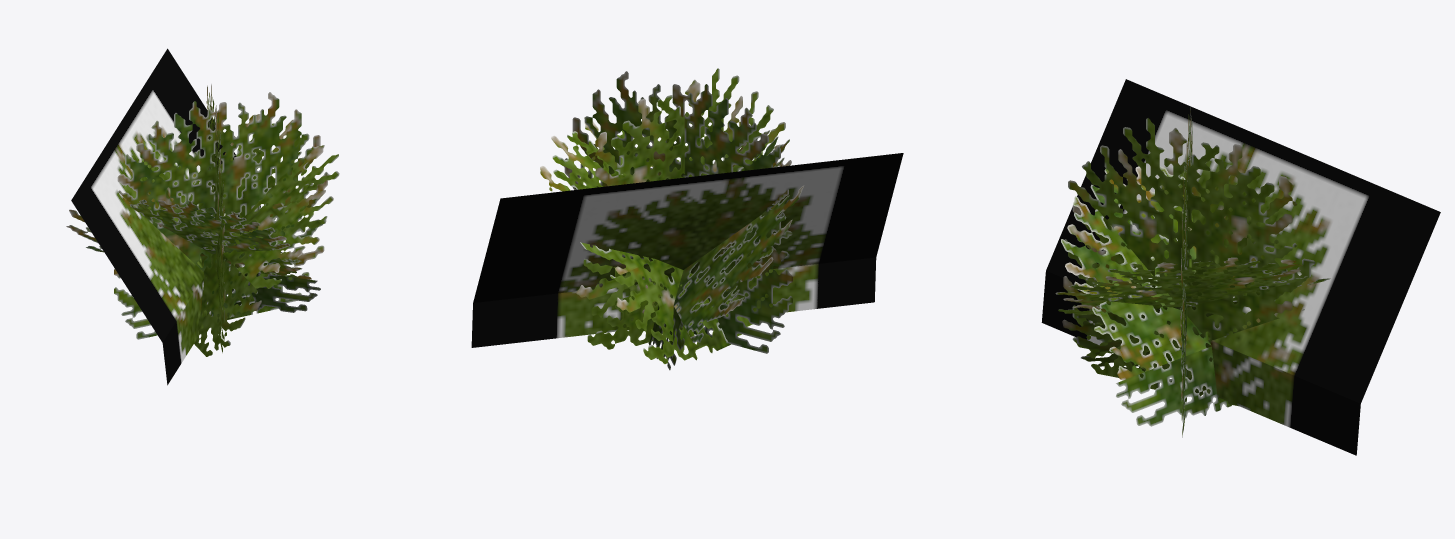
The model's file is myrtle_bush_3.obj.
3 views of the same model, side by side, from view 1: azimuth 30°, elevation 25°; view 2: azimuth 150°, elevation 25°; view 3: azimuth 270°, elevation 25° (orthographic). The views are drawn at different scales.
Parts seen in each view (by area): view 1: plane; view 2: plane; view 3: plane.
Part boxes in pixels (box(x1,y1,x2,y2)): plane: box(66, 48, 339, 385); plane: box(471, 68, 903, 370); plane: box(1041, 79, 1440, 455).
Bounding box in the file's own units: 3 × 2.83 × 3.14.
